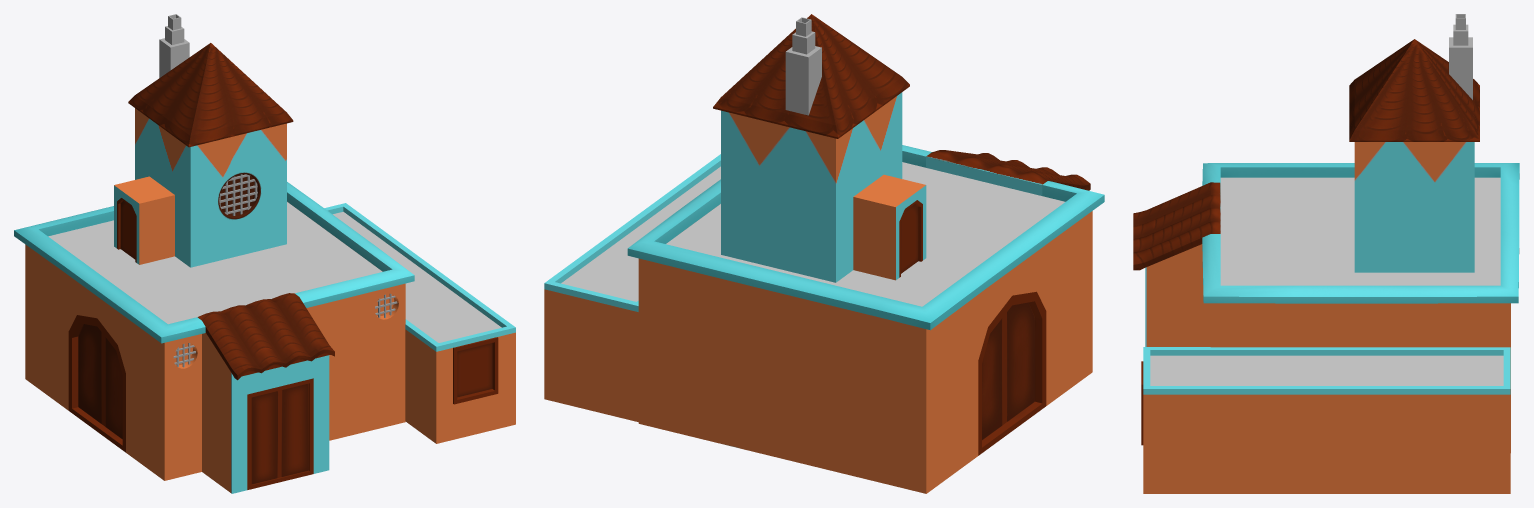
The model's file is house_07.fbx.
The picture shows the model from 3 angles, left to right: view 1: azimuth 30°, elevation 25°; view 2: azimuth 150°, elevation 25°; view 3: azimuth 270°, elevation 25°; orthographic projection. The views are drawn at different scales.
Visible parts, largest first — view 1: house_07; view 2: house_07; view 3: house_07.
Part boxes in pixels (bbox=[...]): house_07: bbox=[14, 14, 515, 493]; house_07: bbox=[544, 14, 1104, 493]; house_07: bbox=[1133, 14, 1519, 493].
Size of the model in its own units: 374 by 380 by 354.
